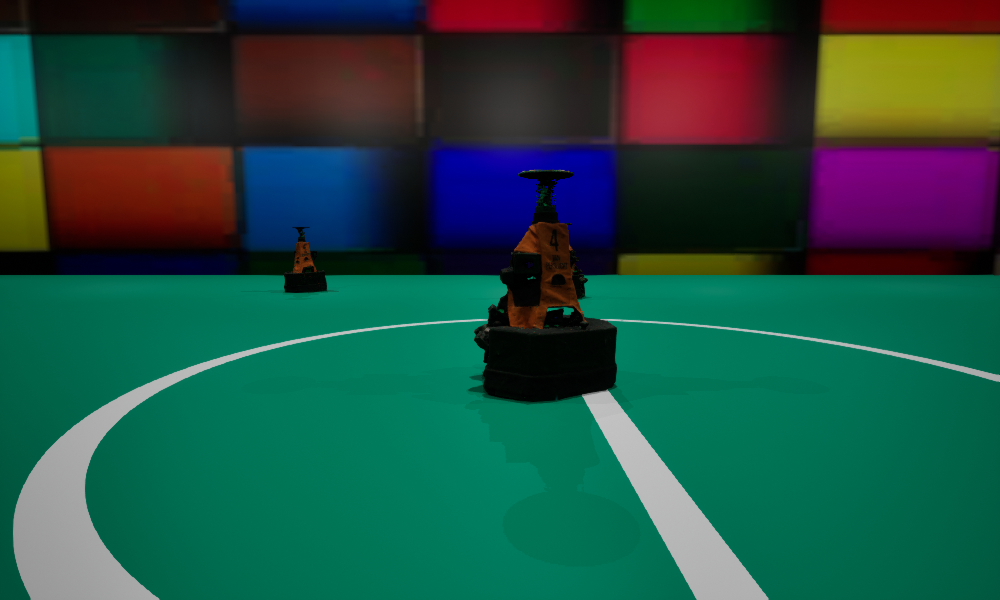0 orange robot TechUnited: (474, 170, 616, 400), (284, 227, 326, 292), (565, 223, 587, 298)
